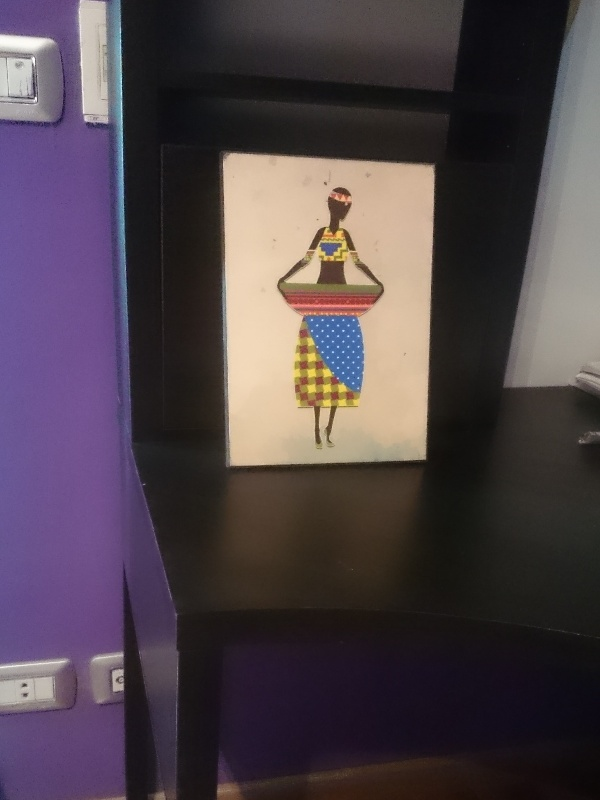my image: (226, 155, 434, 467)
